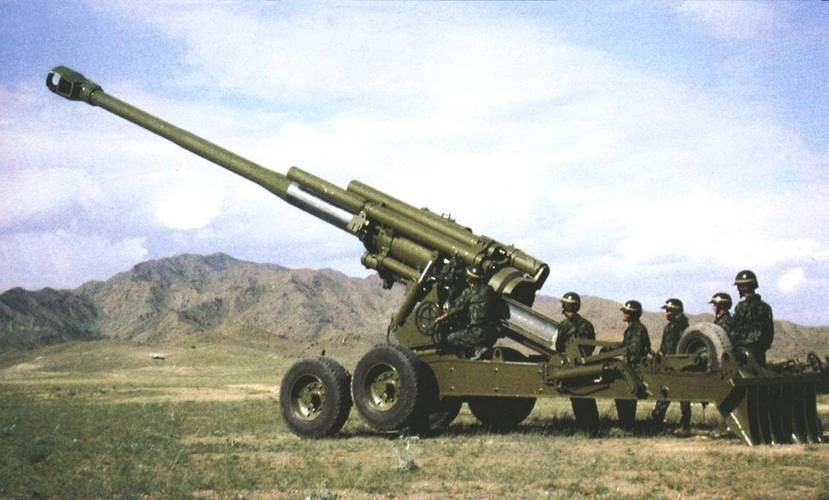MIL_SPG: (47, 66, 829, 444)
